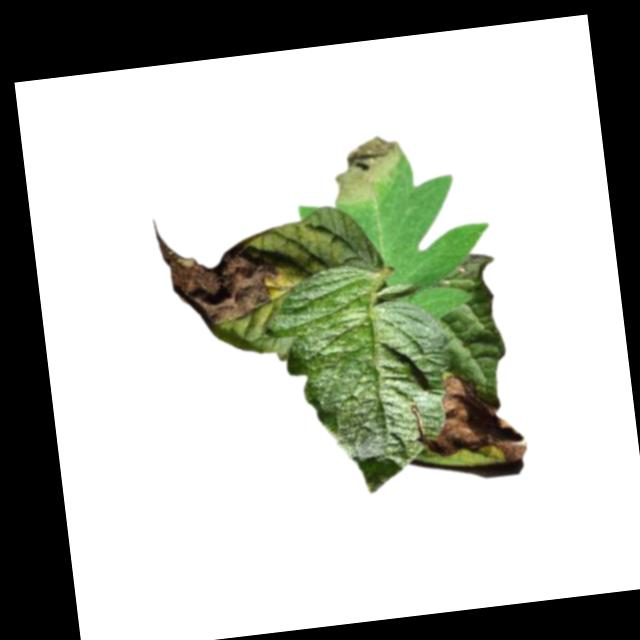Late_blight: (151, 204, 285, 340), (415, 367, 531, 474), (329, 131, 410, 208)
healthy: (258, 253, 465, 505)
